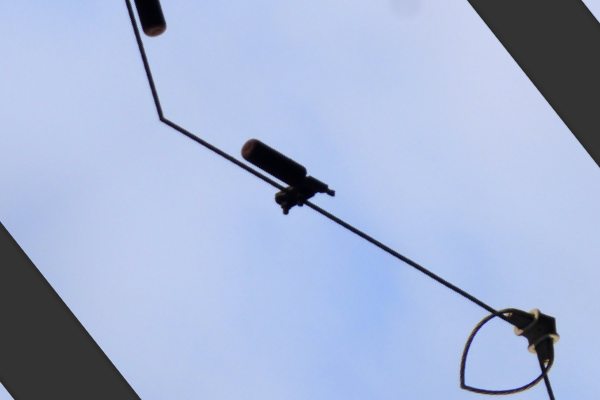damper_defect: (234, 137, 341, 218)
